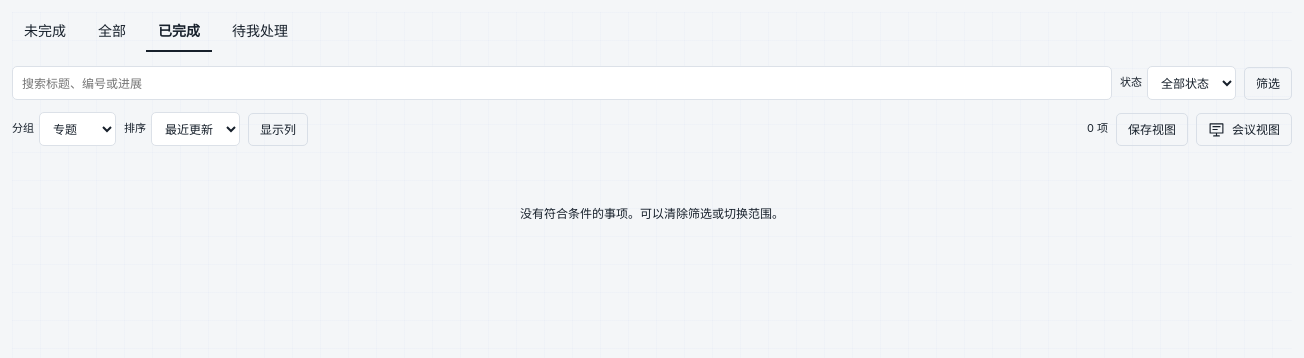
事项列表交互 › 恢复工作空间保存的范围，并在保存失败时保留当前调整
expect the text "没有符合条件的事项。可以清除筛选或切换范围。" is shown: met, box [520,206,784,221]
Click the button "待我处理": (260, 32) [220,12,300,52]
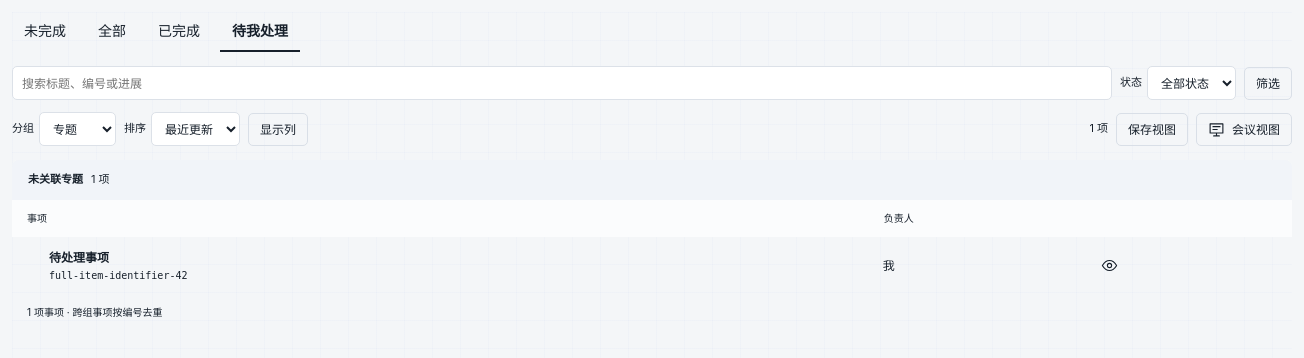
expect the link "待处理事项" is shown: met, box [49,250,109,265]
expect the text "full-item-identifier-42" is shown: met, box [49,268,188,284]
Click the button "保存视图": (1152, 129) [1116,113,1188,146]
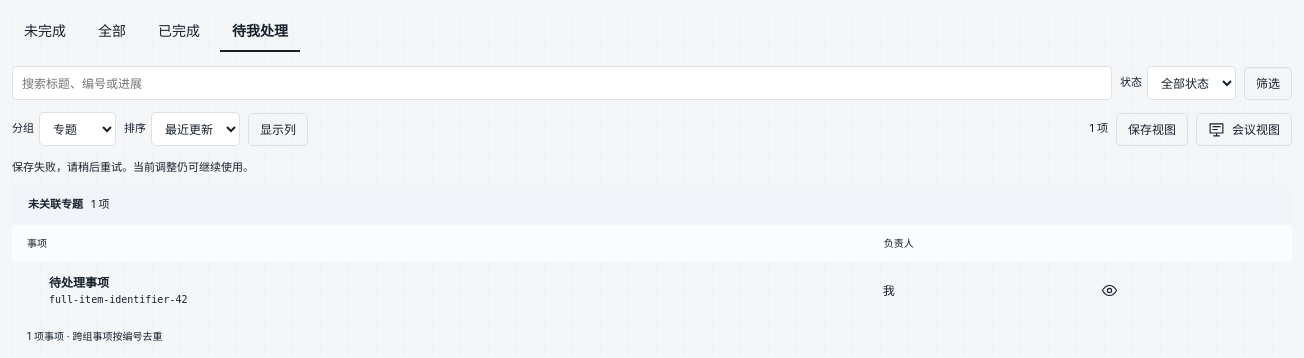
expect the link "待处理事项" is shown: met, box [49,275,109,290]
expect the message "保存失败，请稍后重试。当前调整仍可继续使用。" is shown: met, box [12,160,254,174]
